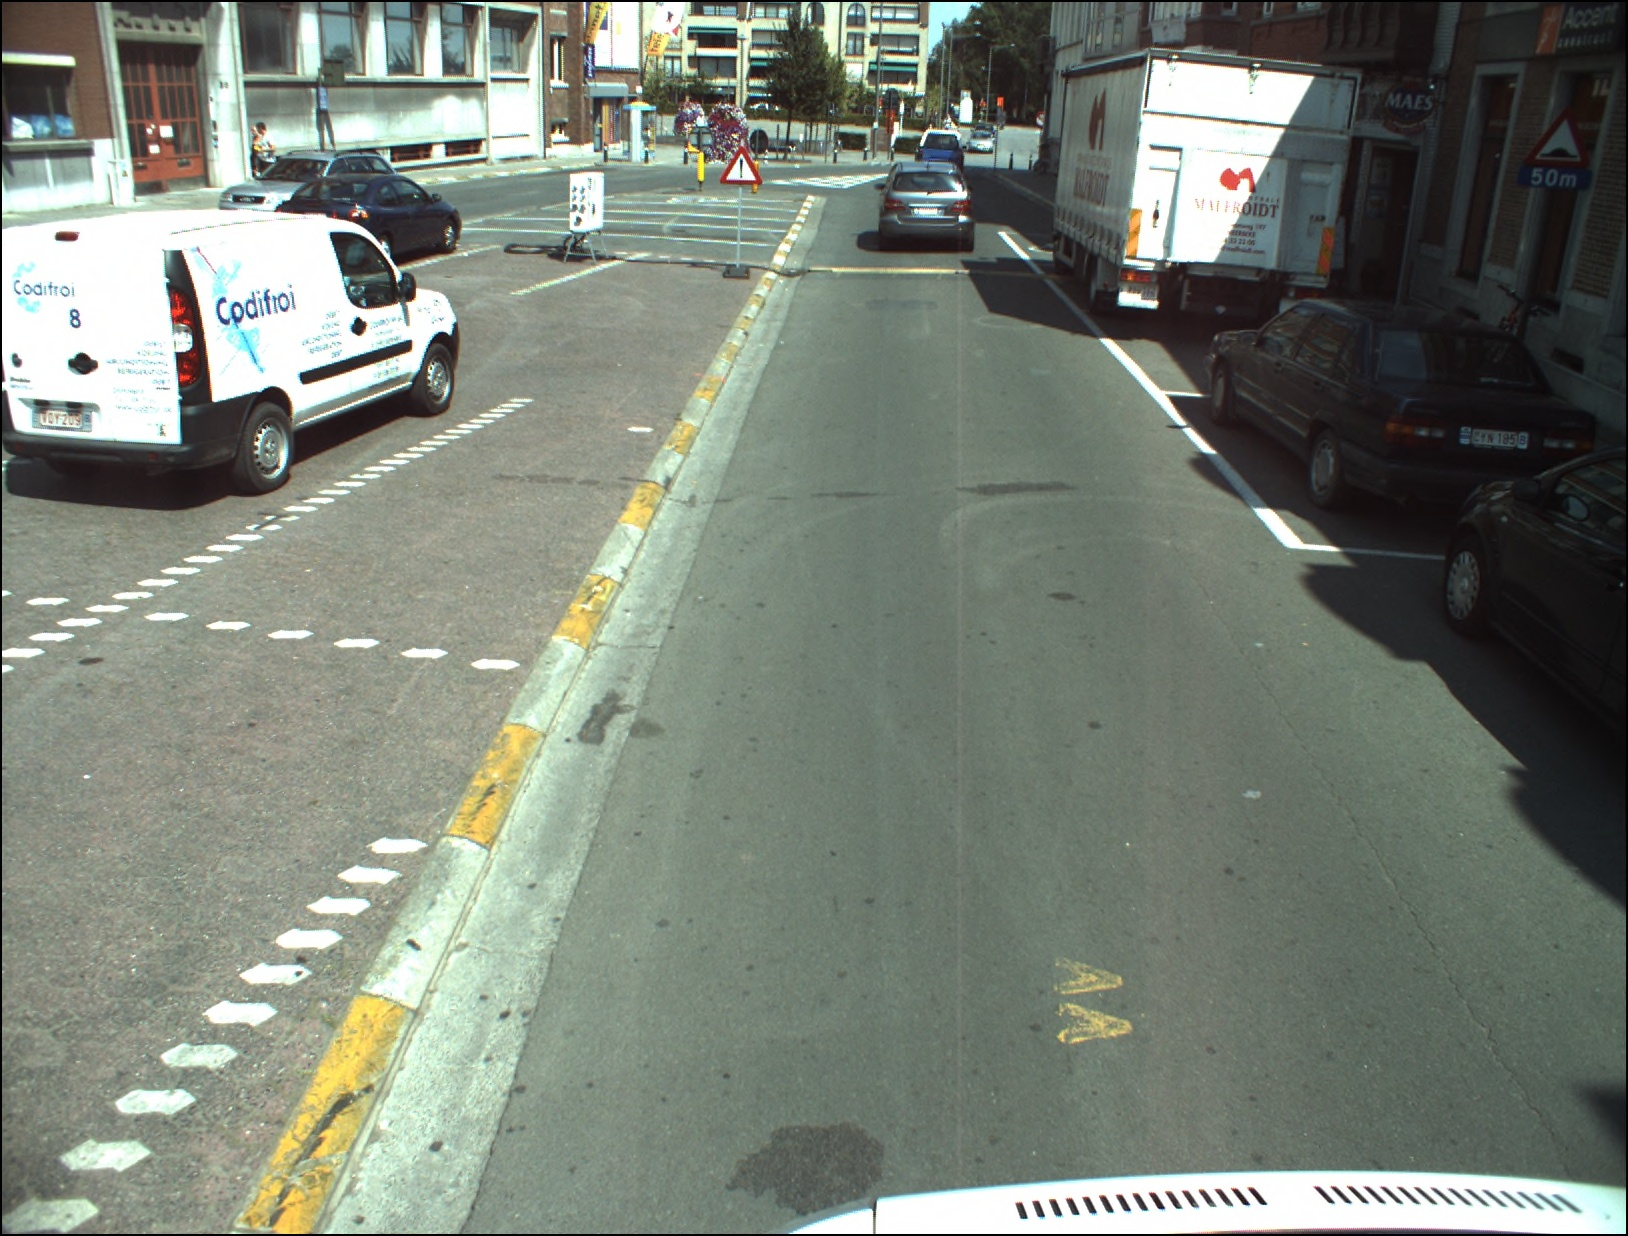danger: (722, 147, 759, 186)
